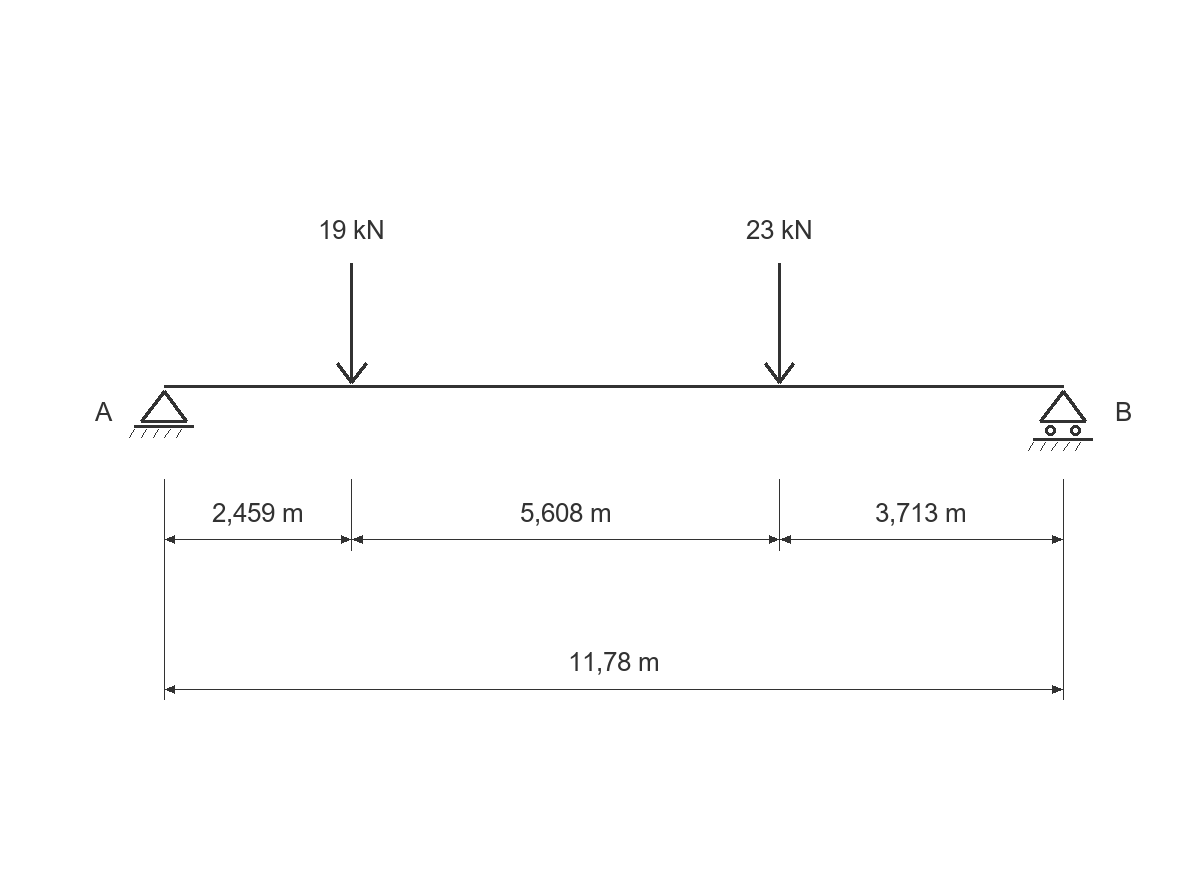pin_support: (129, 390, 194, 438)
point_load: (336, 263, 368, 384), (764, 263, 795, 384)
roller_support: (1028, 390, 1093, 451)
